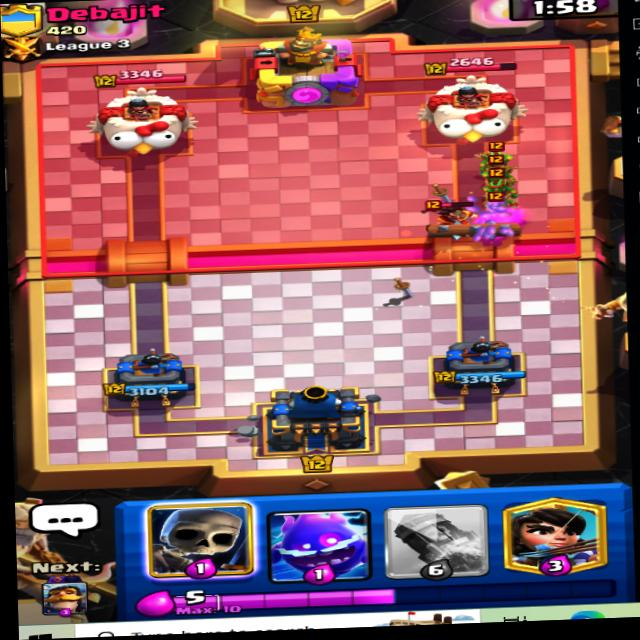electro-wizard: (420, 191, 477, 234)
spear-goblin: (479, 142, 517, 171), (479, 174, 518, 200), (486, 167, 511, 190)
